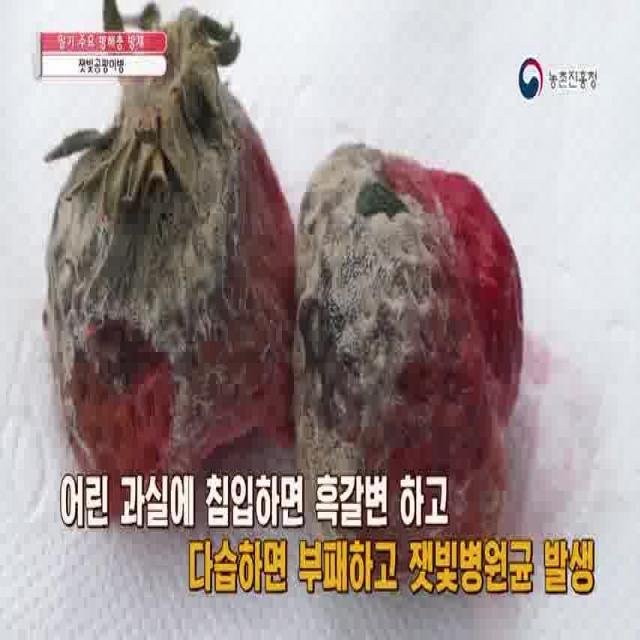Moho gris: (42, 0, 310, 530), (298, 140, 526, 572)
